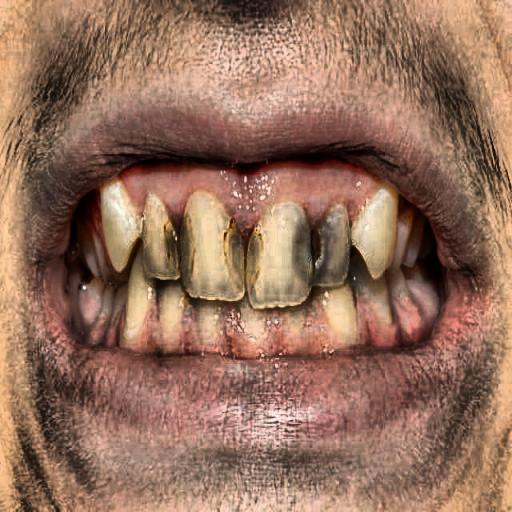Caries: (134, 179, 296, 297), (298, 209, 371, 293)
